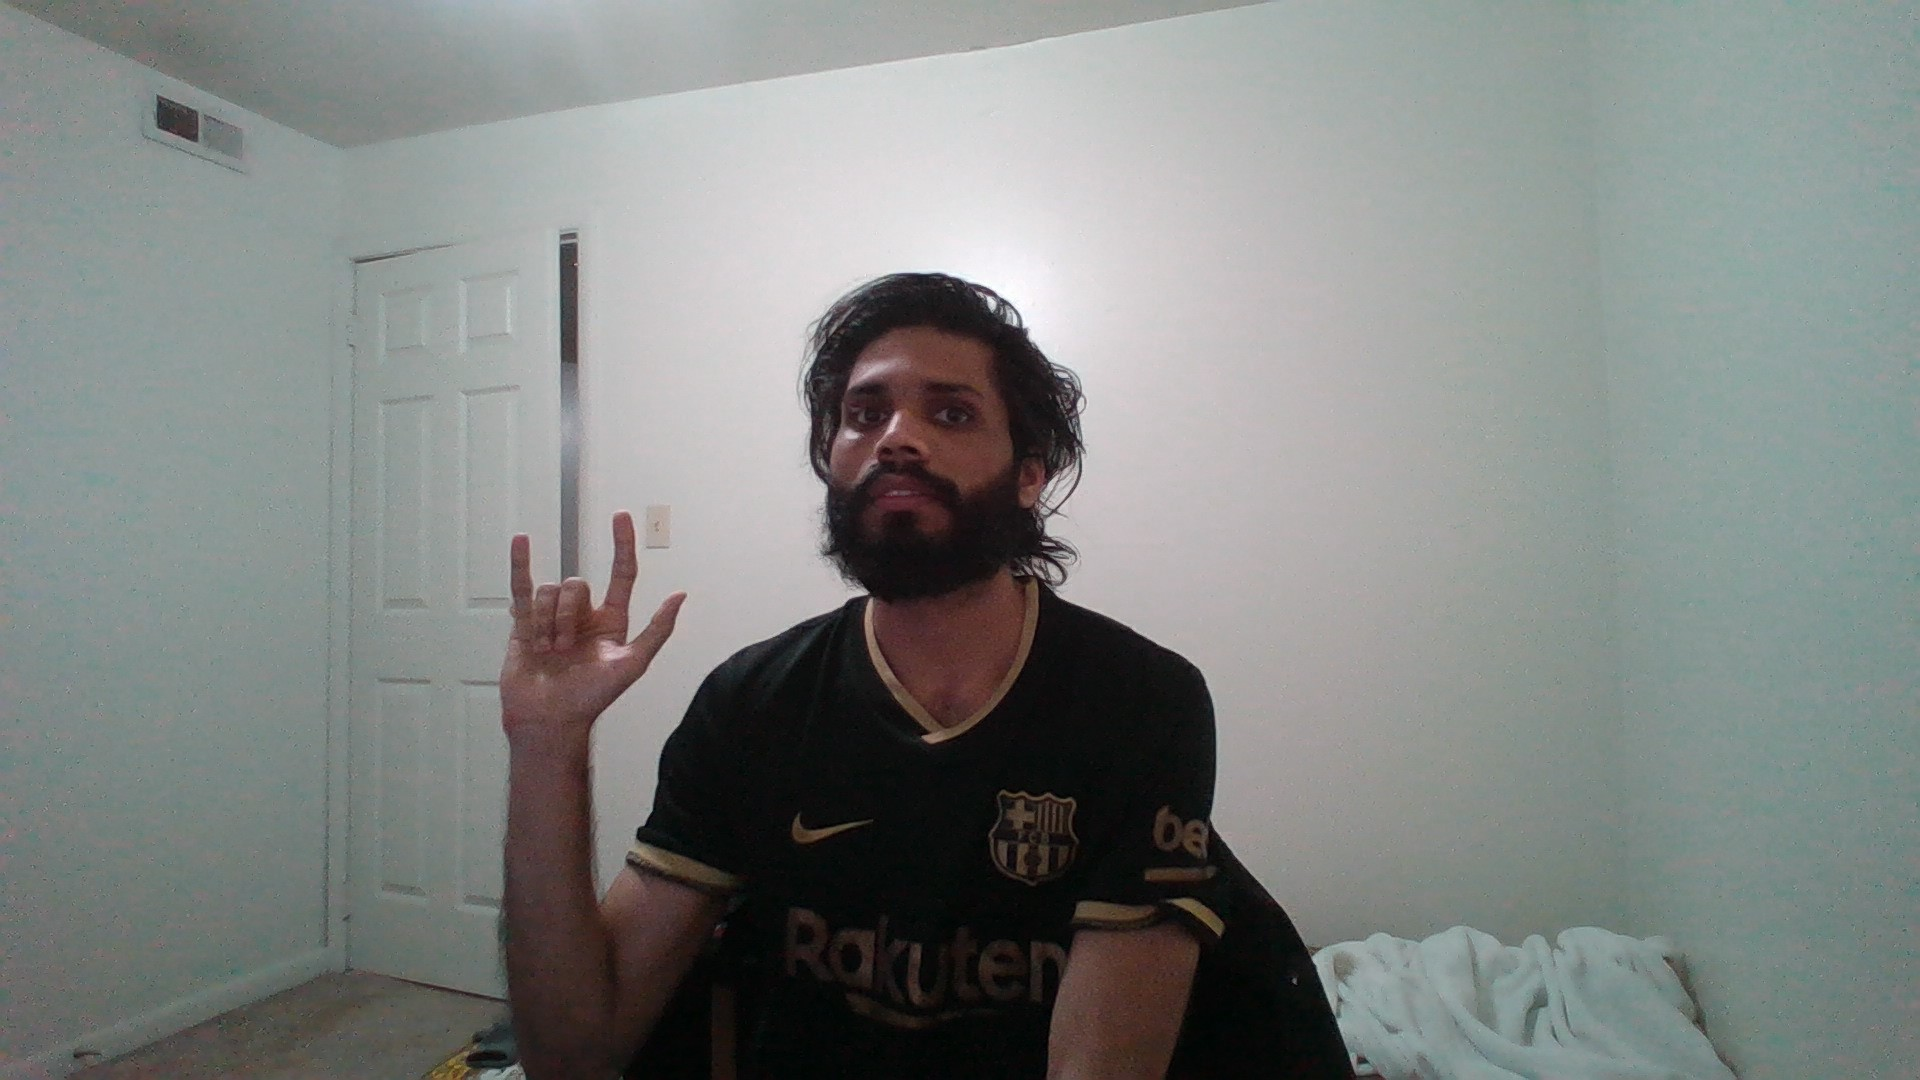IloveYou: (440, 498, 731, 764)
